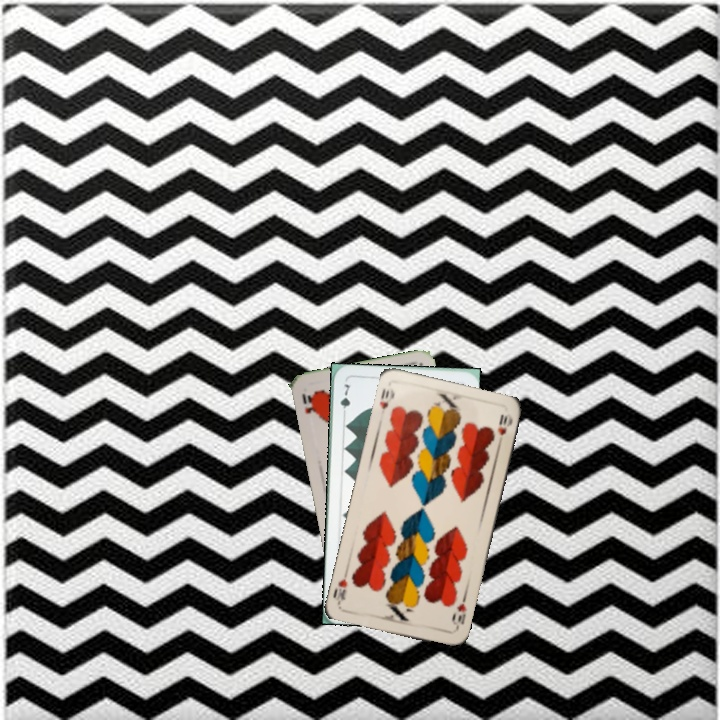G7: (337, 380, 352, 419)
H10: (448, 593, 470, 633), (376, 384, 397, 412)
HO: (298, 389, 317, 416)
